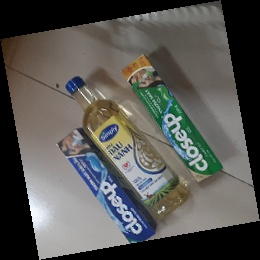CloseUp Tuyet: (55, 127, 159, 243)
CloseUp Xanh: (120, 53, 226, 182)
Simply: (65, 75, 193, 219)
